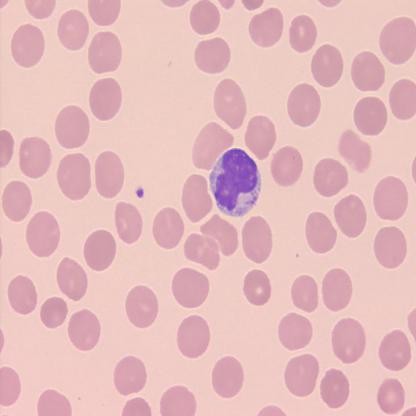Lymphocyte: (208, 146, 263, 219)
